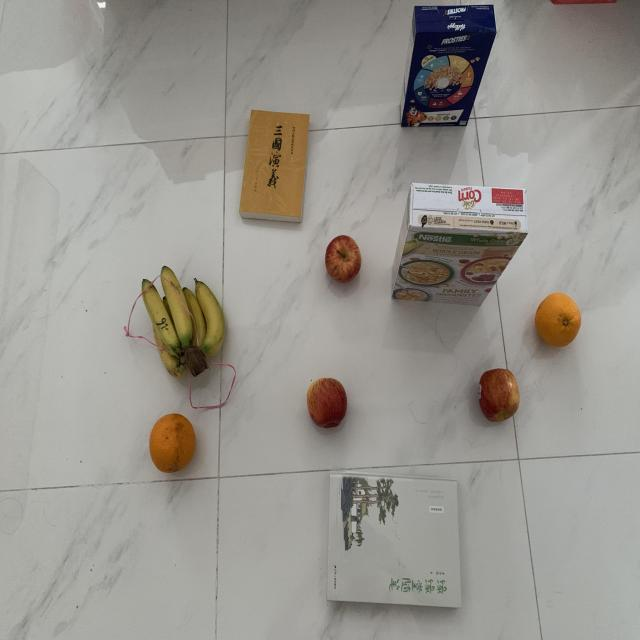Apple: (474, 365, 520, 430), (304, 372, 349, 432), (321, 233, 367, 284)
Banana: (135, 264, 232, 386)
Book: (324, 468, 466, 614), (236, 107, 314, 228)
Cerealbox: (381, 180, 531, 314), (398, 4, 499, 130)
Orange: (148, 412, 199, 474), (532, 290, 584, 348)
